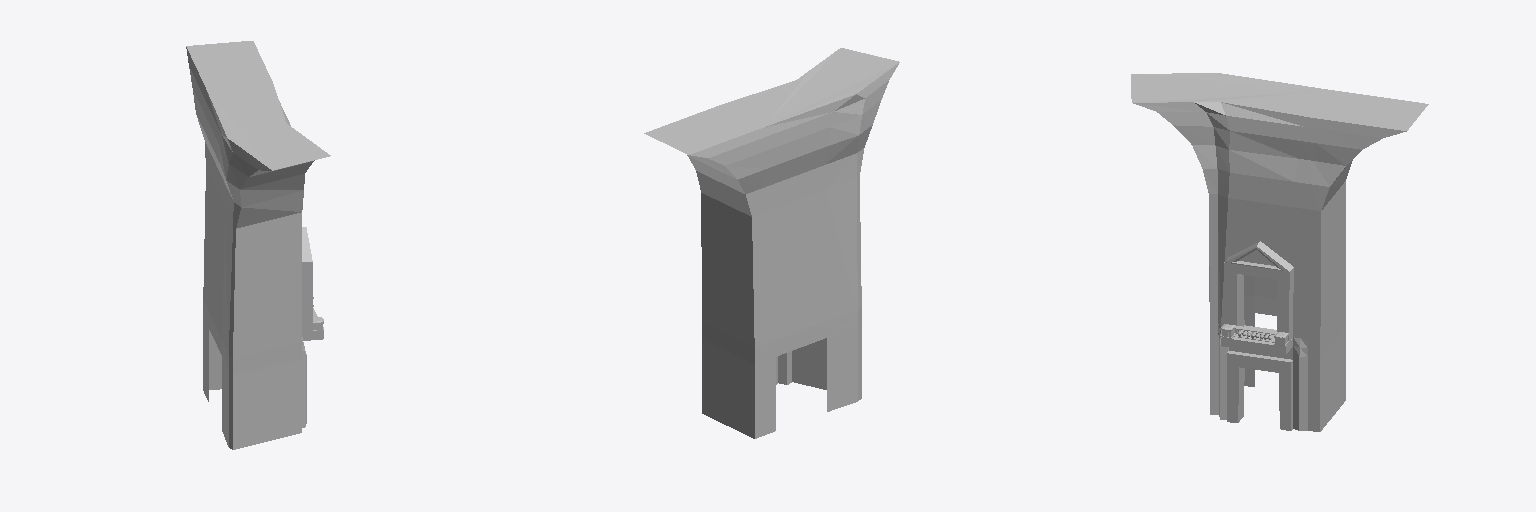
The model's file is Atrium_MainColumn_Left.obj.
3 renders of one model, left to right at view 1: azimuth 30°, elevation 25°; view 2: azimuth 150°, elevation 25°; view 3: azimuth 270°, elevation 25°, orthographic.
Parts seen in each view (by area): view 1: polySurface300; view 2: polySurface300; view 3: polySurface300.
Part boxes in pixels (bbox=[...]): polySurface300: bbox=[186, 41, 330, 449]; polySurface300: bbox=[644, 48, 899, 438]; polySurface300: bbox=[1131, 73, 1428, 431].
Bounding box in the file's own units: 1375 × 3336 × 2921.